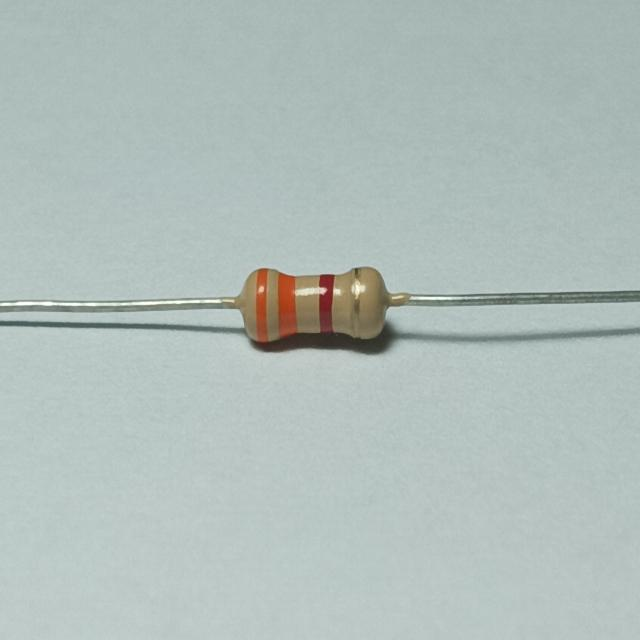3.3k ohms: (218, 241, 410, 376)
